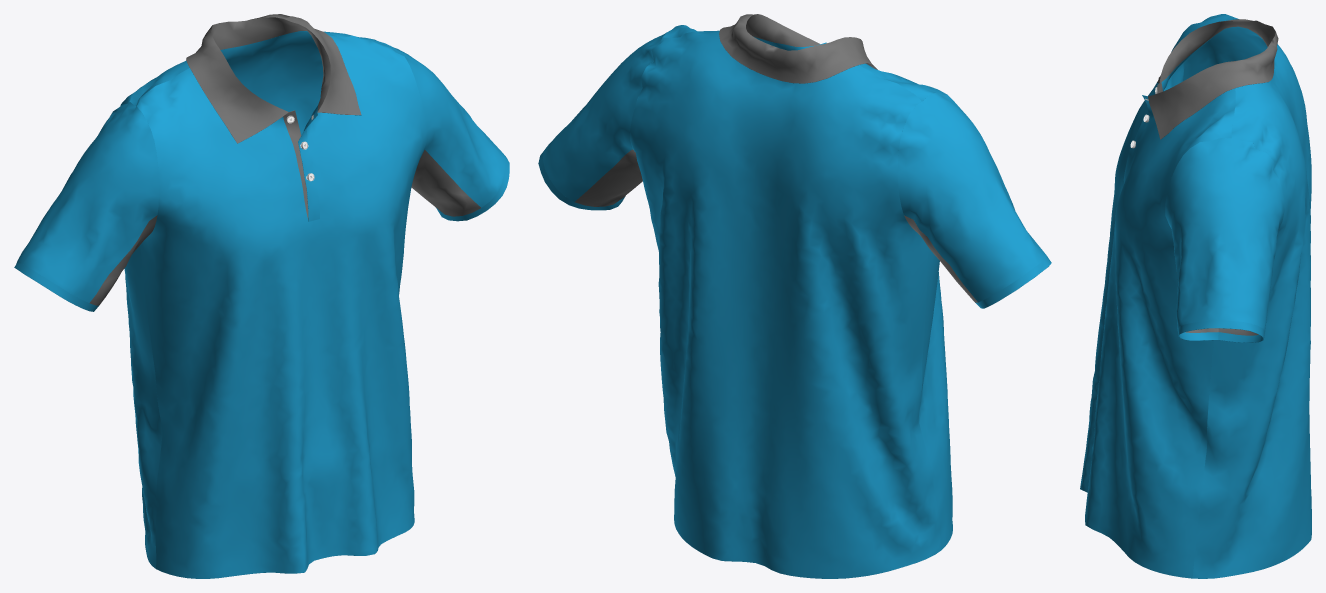
File: t-shirt-polo.glb
The picture shows the model from 3 angles, left to right: view 1: azimuth 30°, elevation 25°; view 2: azimuth 150°, elevation 25°; view 3: azimuth 270°, elevation 25°; orthographic projection. The views are drawn at different scales.
Visible parts, largest first — view 1: Object_68, Object_113, Object_58, Object_53, Object_98, Object_108, Object_63, Object_78, Object_73, Object_88; view 2: Object_58, Object_113, Object_98, Object_68, Object_53, Object_108, Object_78; view 3: Object_68, Object_58, Object_98, Object_53, Object_113, Object_88, Object_63, Object_108.
Boxes of the visible parts, x1,y1,x2,y2 form: Object_68: (136, 35, 427, 578); Object_113: (18, 102, 158, 302); Object_58: (113, 31, 384, 568); Object_53: (186, 14, 361, 143); Object_98: (375, 40, 504, 207); Object_108: (89, 150, 480, 305); Object_63: (298, 110, 319, 221); Object_78: (14, 260, 98, 311); Object_73: (283, 110, 308, 219); Object_88: (436, 153, 509, 221); Object_58: (630, 31, 941, 578); Object_113: (897, 93, 1046, 302); Object_98: (542, 27, 675, 201); Object_68: (663, 25, 952, 549); Object_53: (719, 14, 876, 83); Object_108: (574, 149, 977, 302); Object_78: (975, 256, 1051, 308); Object_68: (1080, 14, 1235, 578); Object_58: (1192, 17, 1311, 578); Object_98: (1165, 138, 1284, 330); Object_53: (1148, 19, 1278, 139); Object_113: (1166, 17, 1267, 89); Object_88: (1177, 320, 1265, 342); Object_63: (1123, 95, 1153, 183); Object_108: (1185, 328, 1258, 335).
Bounding box in the file's own units: 1367 × 1340 × 581.
